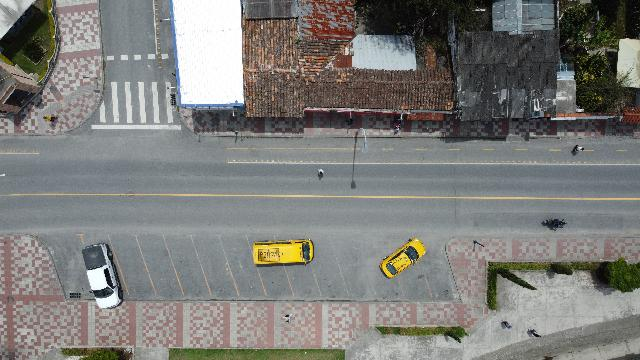Vehiculo: (81, 243, 123, 309), (379, 238, 426, 278), (253, 238, 315, 266)
